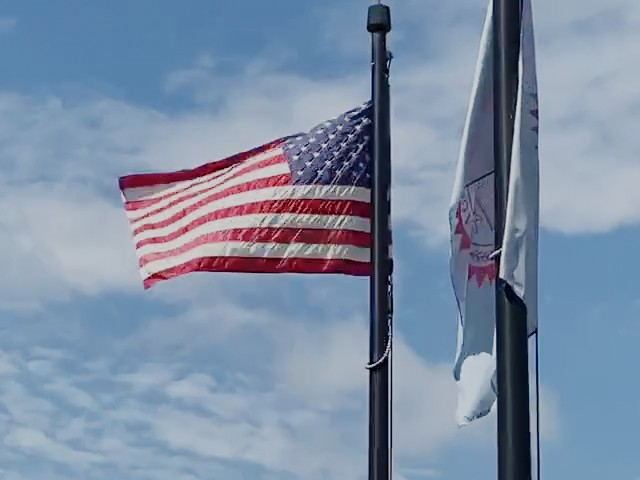America flag: (110, 111, 379, 288)
